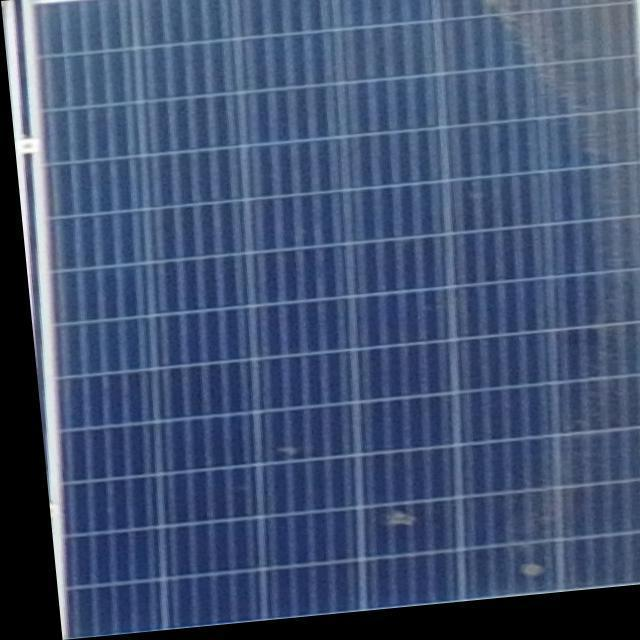Surface Contaminant: (469, 0, 639, 331), (357, 503, 431, 538), (506, 555, 558, 584)
